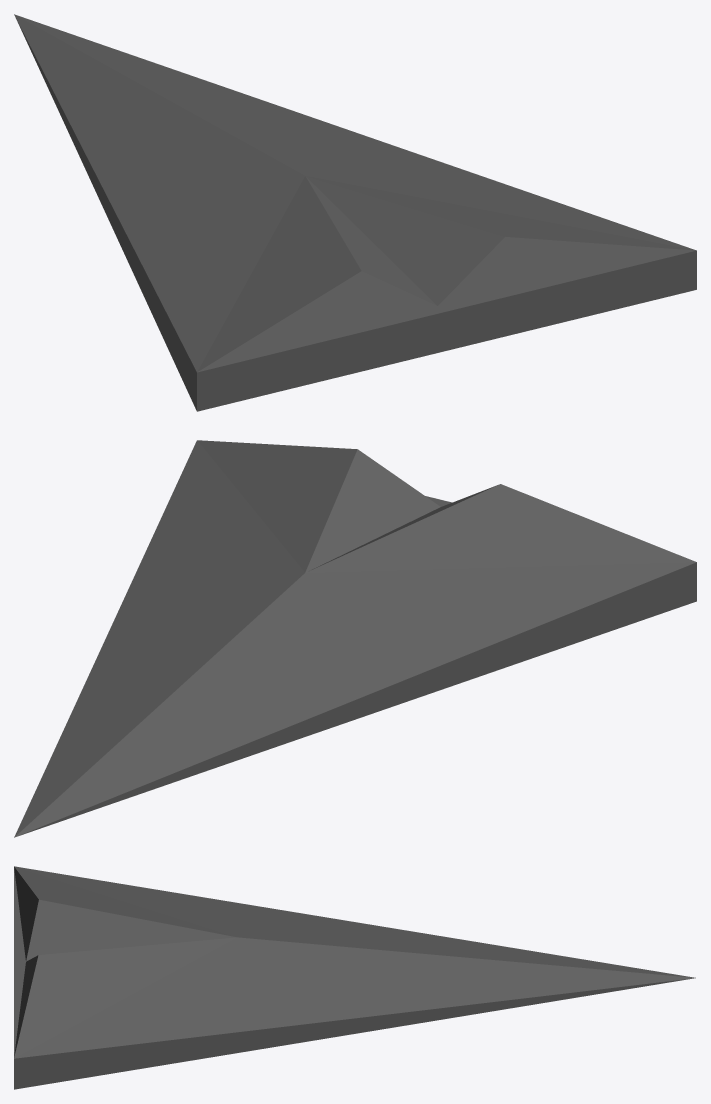
Rendered from ghost.fbx.
3 renders of one model, top to bottom at view 1: azimuth 30°, elevation 25°; view 2: azimuth 150°, elevation 25°; view 3: azimuth 270°, elevation 25°, orthographic. The views are drawn at different scales.
Parts seen in each view (by area): view 1: root; view 2: root; view 3: root.
Boxes of the visible parts, x1,y1,x2,y2 form: root: (14, 14, 696, 411); root: (14, 440, 696, 837); root: (14, 866, 695, 1089).
Bounding box in the file's own units: 200 × 32.51 × 300.
1 material, 1 textured.
